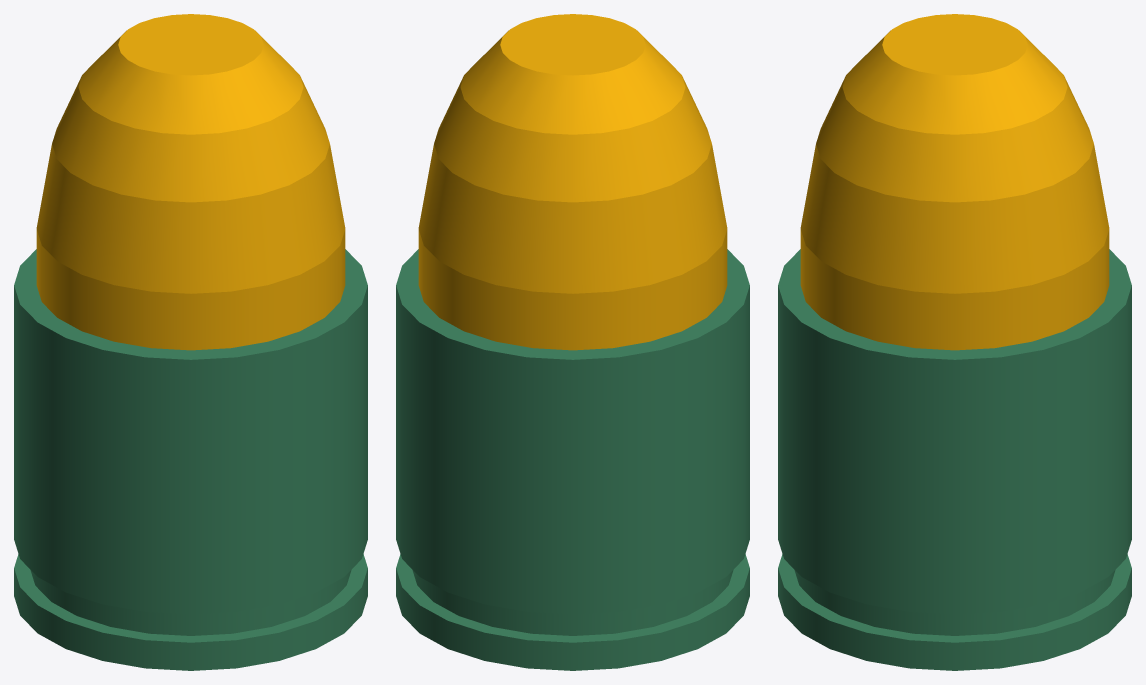
Rendered from ammo_machinegunLauncherGreen.obj.
3 renders of one model, left to right at view 1: azimuth 30°, elevation 25°; view 2: azimuth 150°, elevation 25°; view 3: azimuth 270°, elevation 25°, orthographic.
Visible parts, largest first — view 1: Group; view 2: Group; view 3: Group.
Boxes of the visible parts, bbox=[...] form: Group: bbox=[14, 14, 367, 670]; Group: bbox=[396, 14, 749, 670]; Group: bbox=[778, 14, 1131, 670].
Bounding box in the file's own units: 0.0434 × 0.0746 × 0.0434.
